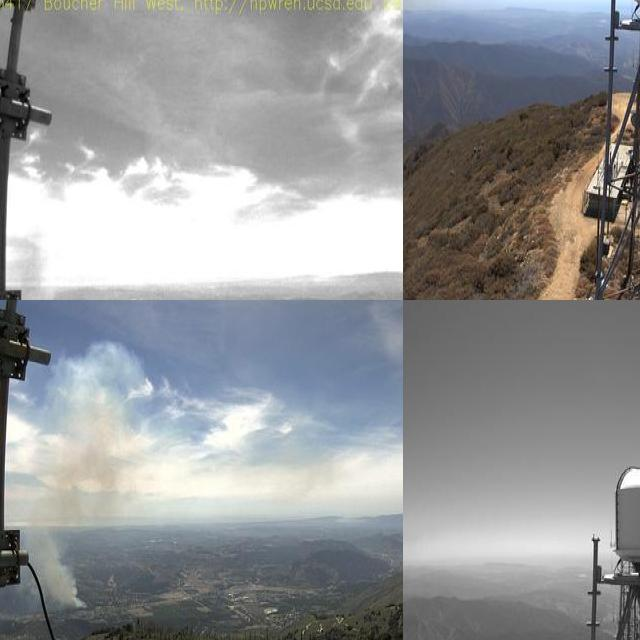smoke: (30, 341, 150, 610), (7, 234, 67, 300)
